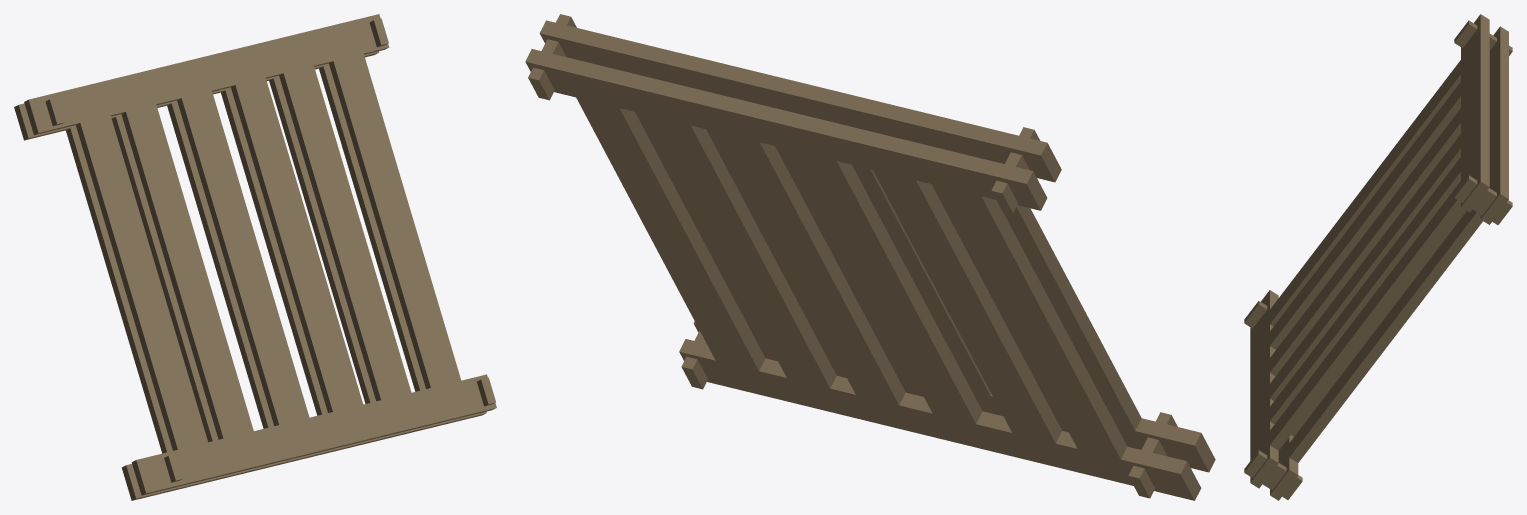
The model's file is Pallet.fbx.
3 renders of one model, left to right at view 1: azimuth 30°, elevation 25°; view 2: azimuth 150°, elevation 25°; view 3: azimuth 270°, elevation 25°, orthographic. The views are drawn at different scales.
Parts seen in each view (by area): view 1: pCube69; view 2: pCube69; view 3: pCube69.
Part boxes in pixels (x1=…): pCube69: x1=14, y1=14, x2=496, y2=500; pCube69: x1=525, y1=14, x2=1215, y2=500; pCube69: x1=1244, y1=14, x2=1512, y2=500.
Bounding box in the file's own units: 6.03 × 5.4 × 4.08.
